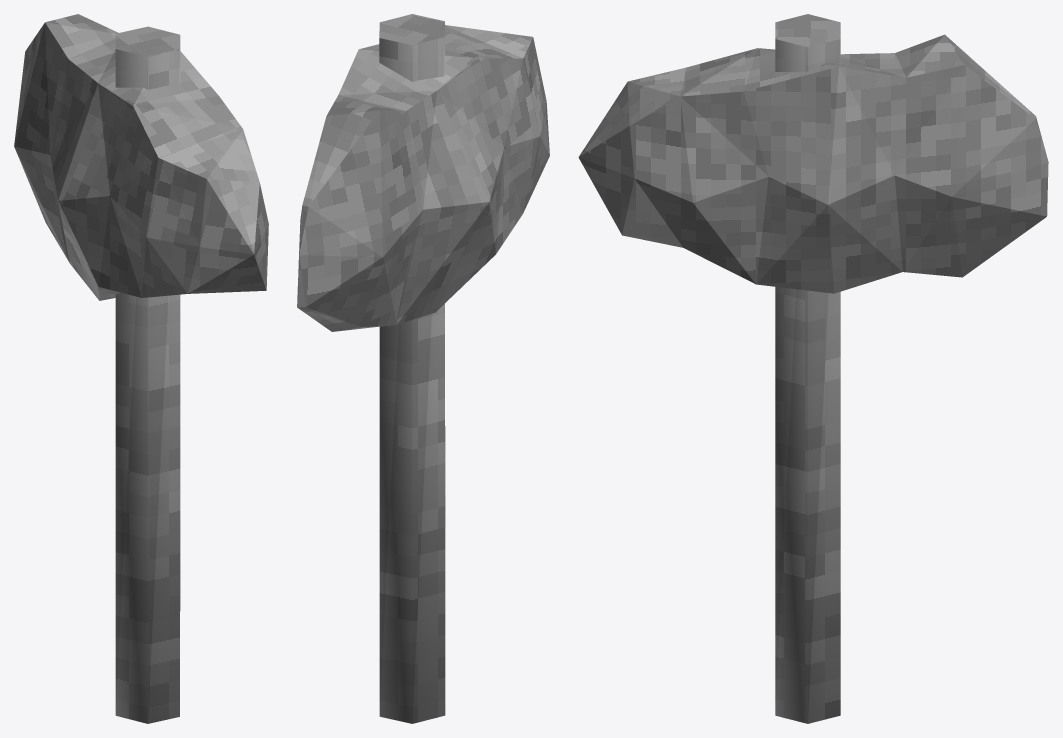
File: StoneAxe.glb
The picture shows the model from 3 angles, left to right: view 1: azimuth 30°, elevation 25°; view 2: azimuth 150°, elevation 25°; view 3: azimuth 270°, elevation 25°; orthographic projection.
Visible parts, largest first — view 1: Head, Handle; view 2: Head, Handle; view 3: Head, Handle.
Boxes of the visible parts, bbox=[...] form: Head: bbox=[14, 14, 268, 300]; Handle: bbox=[115, 26, 180, 723]; Head: bbox=[297, 25, 549, 331]; Handle: bbox=[379, 14, 445, 723]; Head: bbox=[578, 34, 1048, 293]; Handle: bbox=[775, 14, 840, 723].
Bounding box in the file's own units: 0.2375 × 0.9802 × 0.6159.
1 material, 1 textured.
